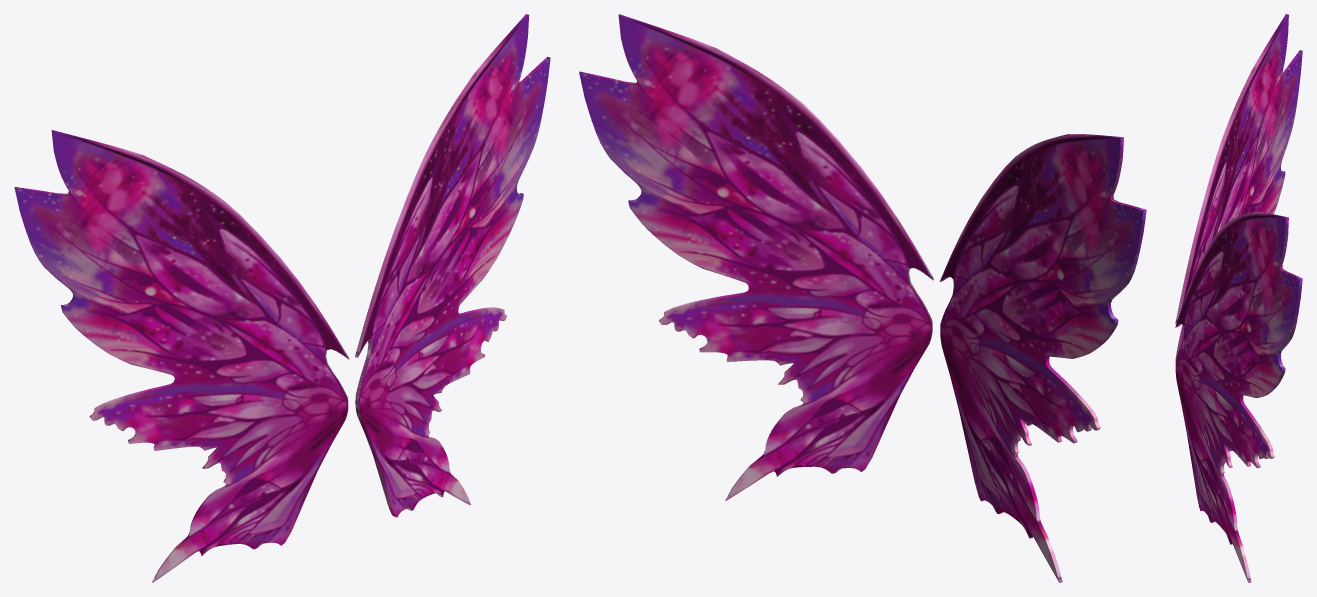
File: Fairy_Wings_03.fbx
3 views of the same model, side by side, from view 1: azimuth 30°, elevation 25°; view 2: azimuth 150°, elevation 25°; view 3: azimuth 270°, elevation 25° (orthographic). The views are drawn at different scales.
Visible parts, largest first — view 1: FairyWings; view 2: FairyWings; view 3: FairyWings.
Boxes of the visible parts, bbox=[...] form: FairyWings: bbox=[14, 14, 550, 582]; FairyWings: bbox=[579, 14, 1146, 582]; FairyWings: bbox=[1175, 14, 1302, 582].
Size of the model in its own units: 10.84 by 8.8 by 2.55.
1 material, 1 textured.
